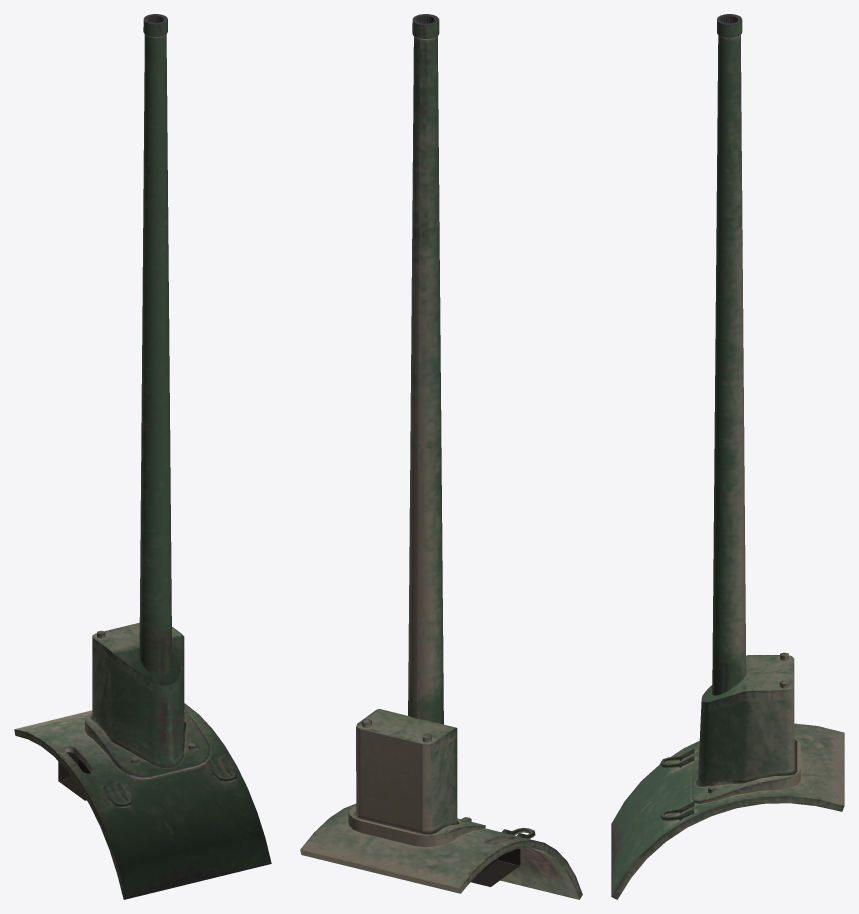
The model's file is Gun_01.glb.
3 views of the same model, side by side, from view 1: azimuth 30°, elevation 25°; view 2: azimuth 150°, elevation 25°; view 3: azimuth 270°, elevation 25° (orthographic). The views are drawn at different scales.
Visible parts, largest first — view 1: set_0_group_0; view 2: set_0_group_0; view 3: set_0_group_0.
Part boxes in pixels (x1,y1,x2,y2): set_0_group_0: [14, 14, 271, 899]; set_0_group_0: [300, 14, 582, 899]; set_0_group_0: [611, 14, 844, 899].
Bounding box in the file's own units: 0.5852 × 3.16 × 0.785.
Materials: 1 (1 with a texture image).
